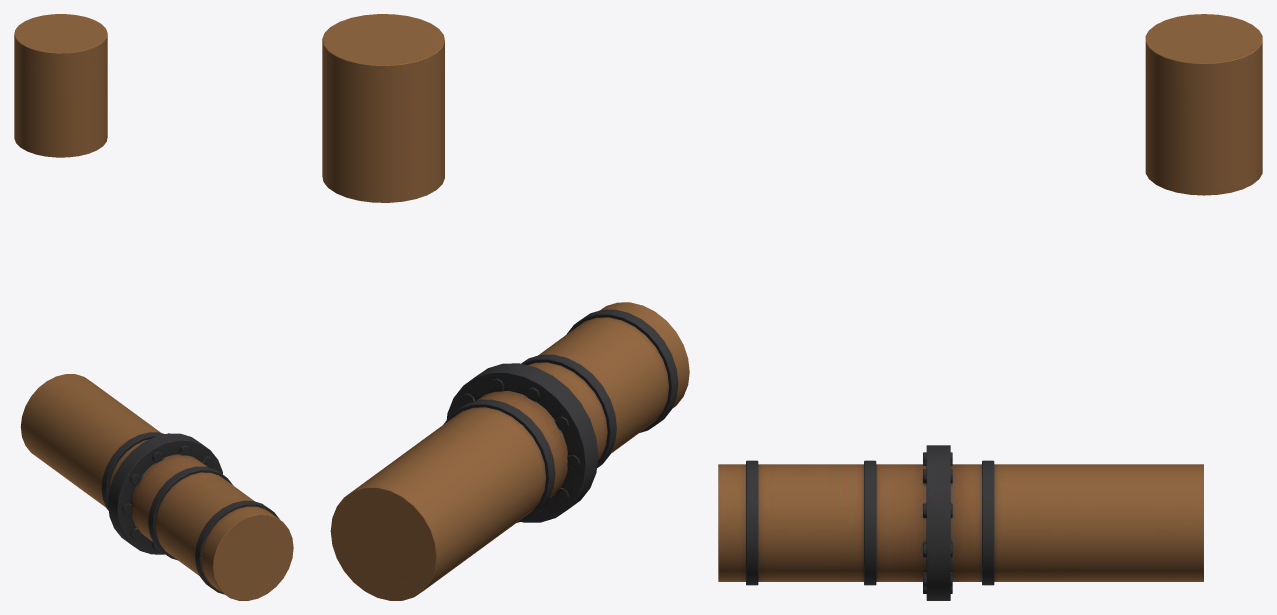
File: LV_pipe_flange.glb
3 renders of one model, left to right at view 1: azimuth 30°, elevation 25°; view 2: azimuth 150°, elevation 25°; view 3: azimuth 270°, elevation 25°, orthographic. The views are drawn at different scales.
Parts seen in each view (by area): view 1: LV_pipe_flange; view 2: LV_pipe_flange; view 3: LV_pipe_flange.
Part boxes in pixels (left/top/right/bottom): LV_pipe_flange: left=14, top=14, right=293, bottom=600; LV_pipe_flange: left=322, top=14, right=689, bottom=600; LV_pipe_flange: left=718, top=14, right=1262, bottom=600.
Bounding box in the file's own units: 0.45 × 1.76 × 1.57.
1 material, 1 textured.
